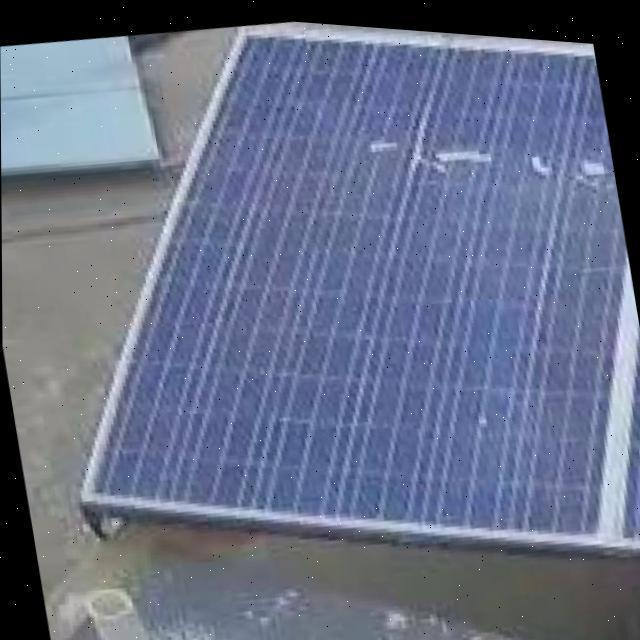Anomaly Solar Panel: (88, 17, 627, 578)
Snow: (366, 122, 496, 173), (528, 137, 618, 186)
